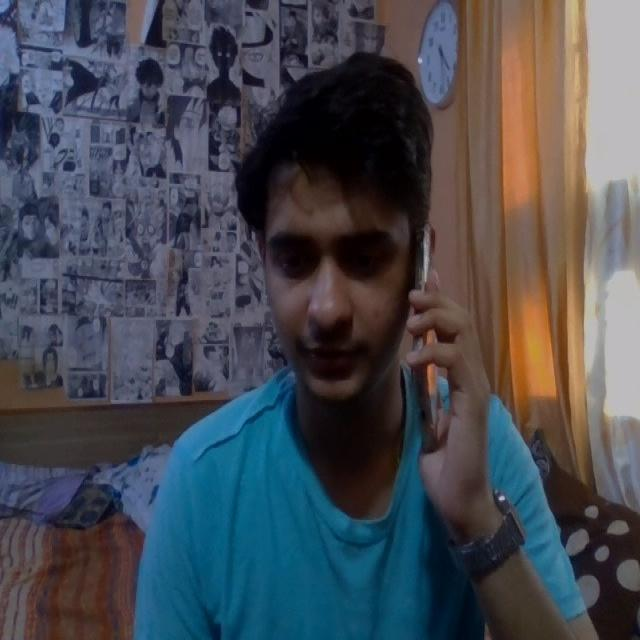oncall: (197, 50, 499, 474)
phone: (411, 217, 448, 445)
